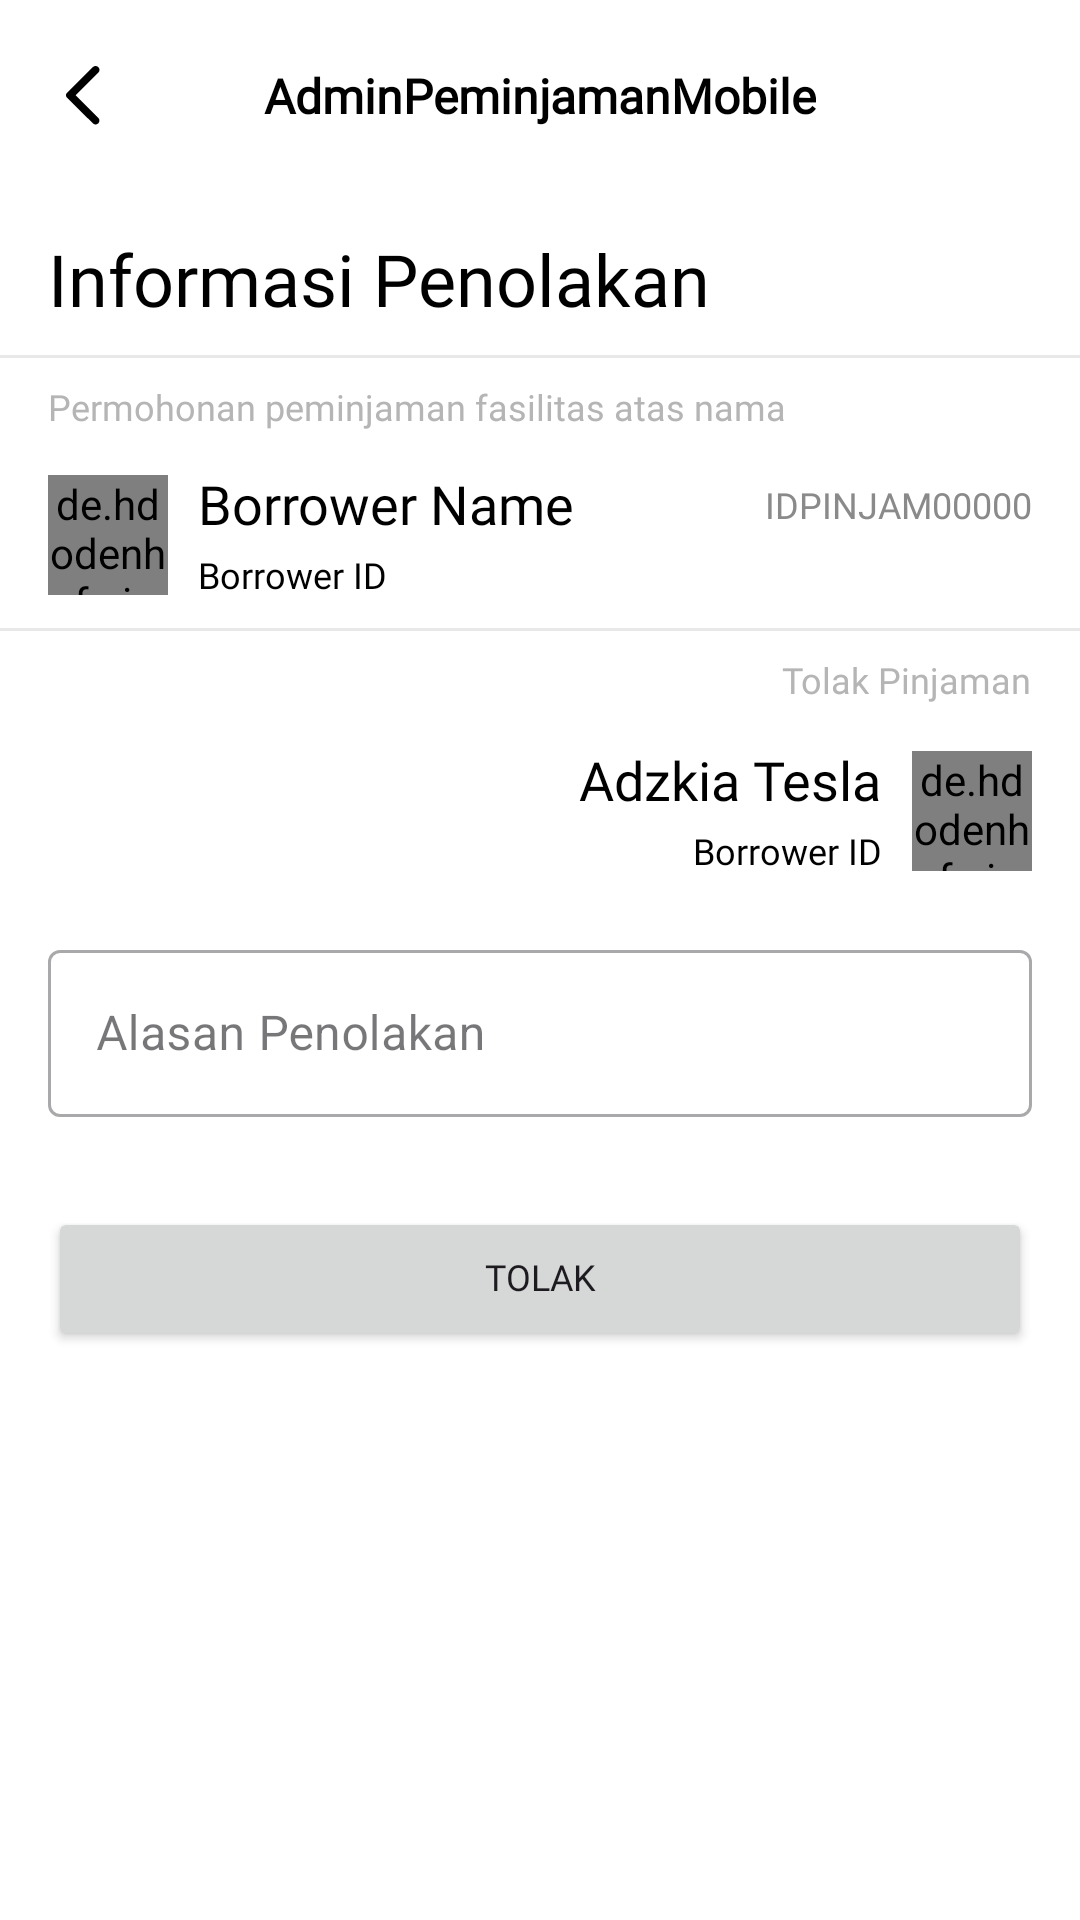

Icons on this 1080w x 1920h Android screen, each with the point to tap as point (x, y):
arrow back: point (83, 95)
